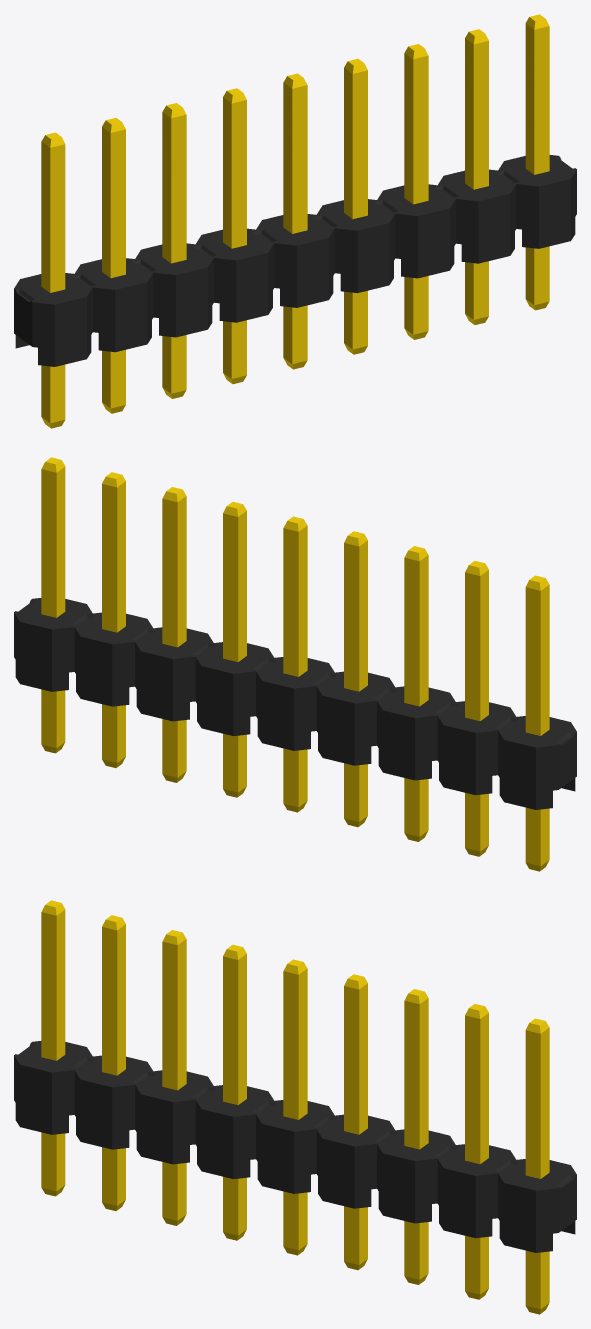
File: PLS9.glb
The picture shows the model from 3 angles, top to bottom: view 1: azimuth 30°, elevation 25°; view 2: azimuth 150°, elevation 25°; view 3: azimuth 330°, elevation 25°; orthographic projection.
Parts seen in each view (by area): view 1: PLS (DS1021 CONNFLY); view 2: PLS (DS1021 CONNFLY); view 3: PLS (DS1021 CONNFLY).
Part boxes in pixels (<box>): PLS (DS1021 CONNFLY): <box>14,14,576,428</box>; PLS (DS1021 CONNFLY): <box>14,457,576,871</box>; PLS (DS1021 CONNFLY): <box>14,900,576,1314</box>.
Bounding box in the file's own units: 0.0229 × 0.0116 × 0.00254.
